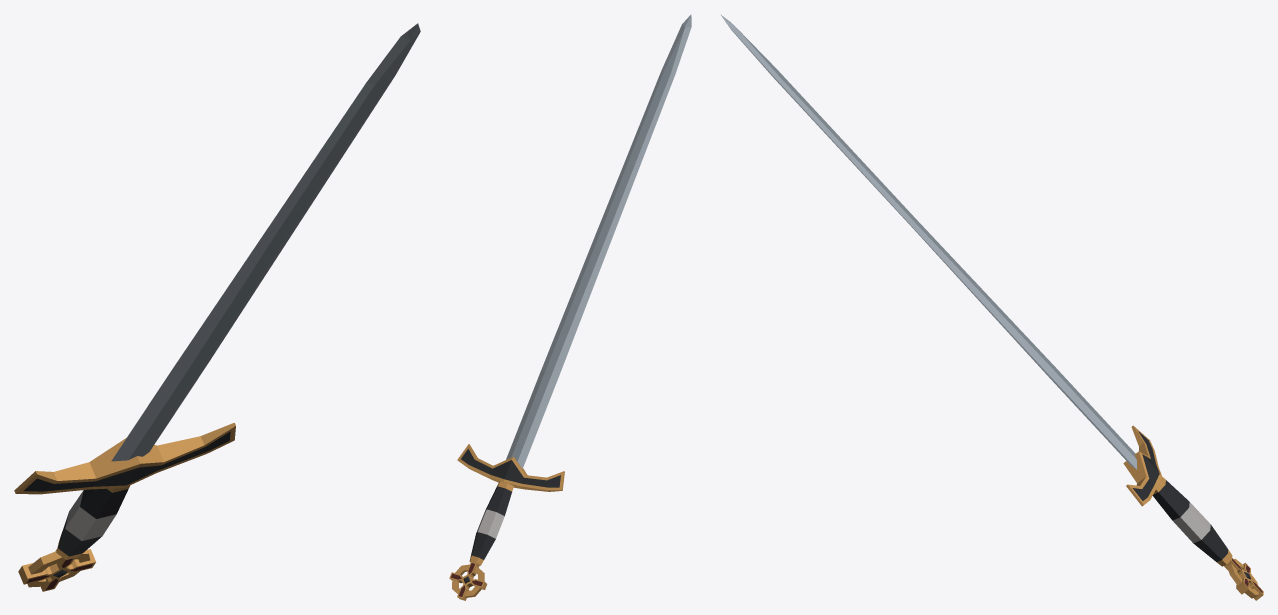
File: fk-sword-01.glb
The picture shows the model from 3 angles, left to right: view 1: azimuth 30°, elevation 25°; view 2: azimuth 150°, elevation 25°; view 3: azimuth 270°, elevation 25°; orthographic projection. The views are drawn at different scales.
Visible parts, largest first — view 1: fk-sword-01; view 2: fk-sword-01; view 3: fk-sword-01.
Boxes of the visible parts, x1,y1,x2,y2 form: fk-sword-01: (14, 23, 420, 591); fk-sword-01: (449, 14, 691, 600); fk-sword-01: (720, 14, 1263, 600).
Bounding box in the file's own units: 0.2995 × 1.17 × 1.01.
1 material, 1 textured.
